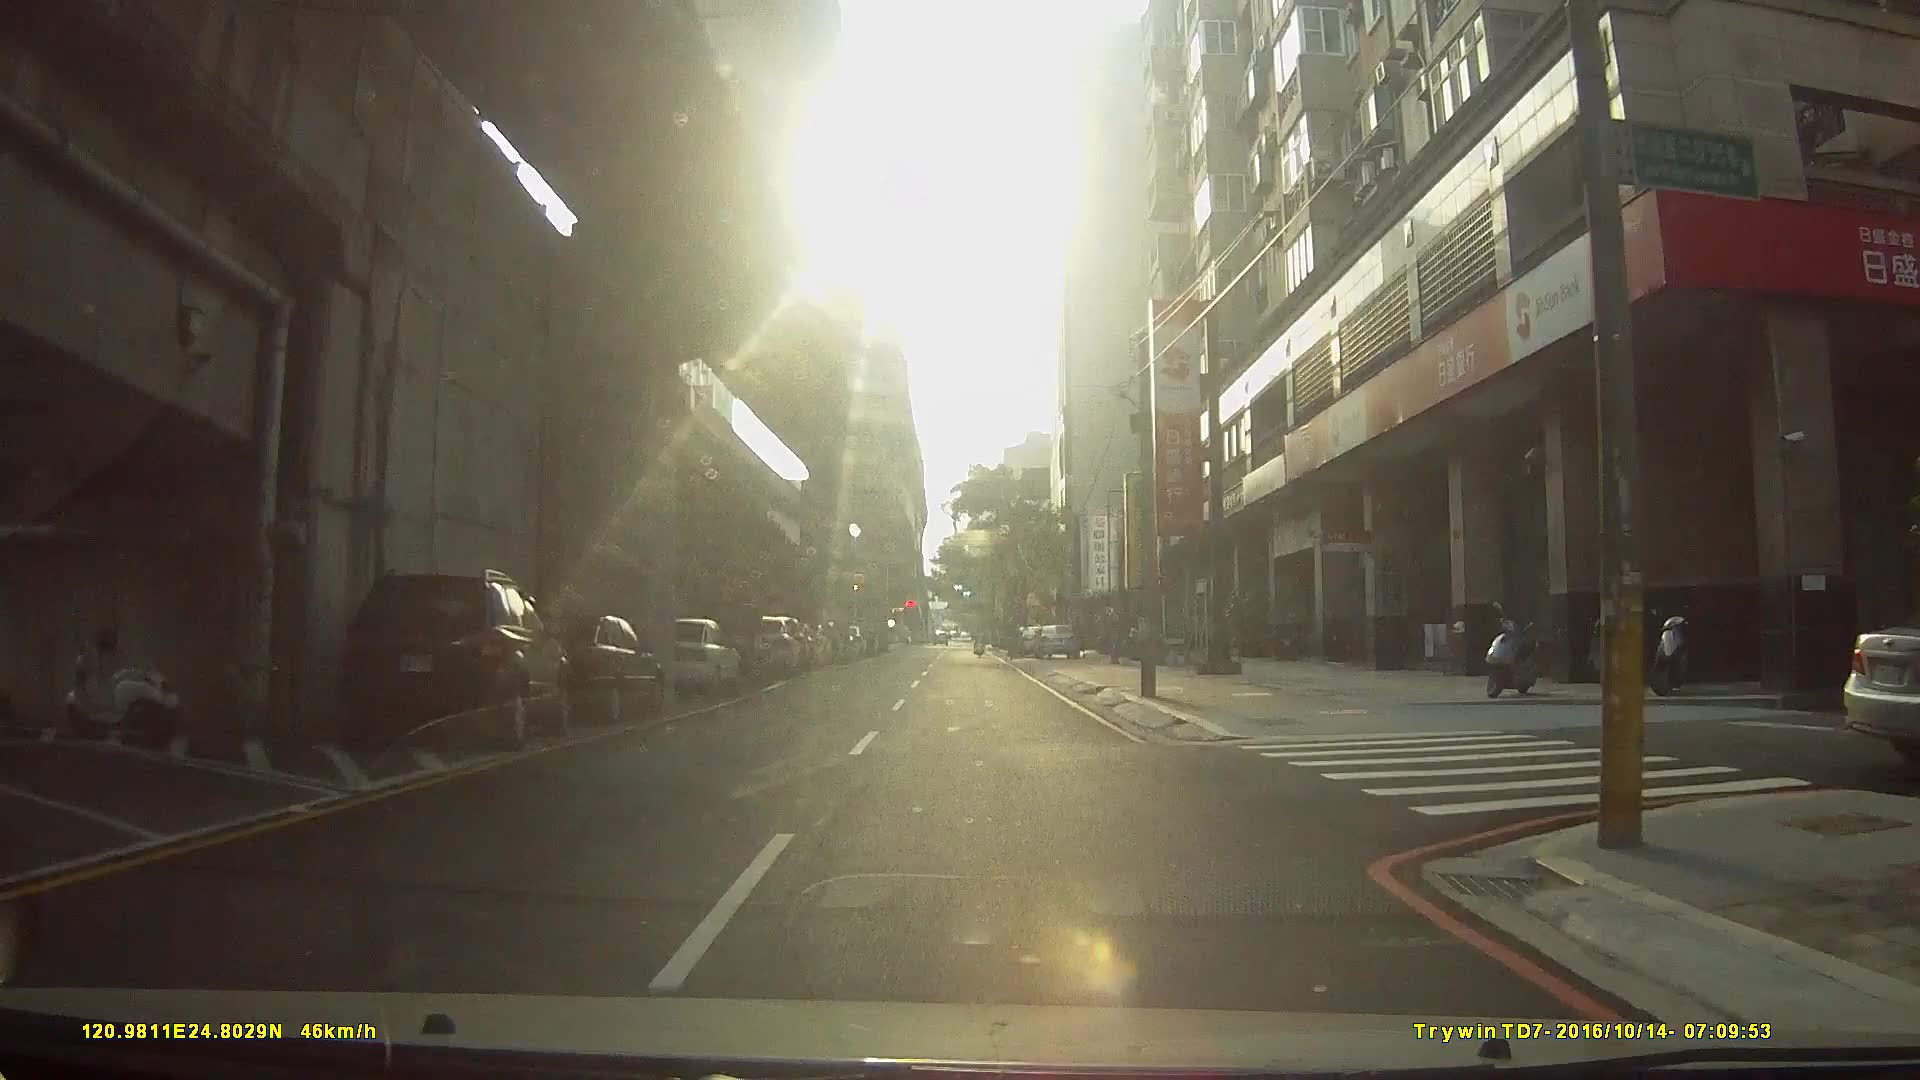vehicle: (338, 568, 570, 750), (491, 611, 662, 729), (642, 615, 742, 702), (659, 620, 794, 670), (1030, 618, 1080, 657)
